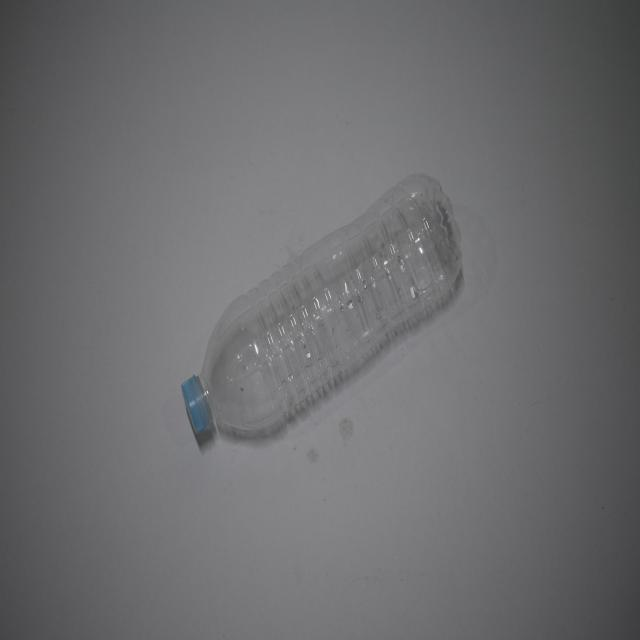empty: (182, 174, 461, 433)
